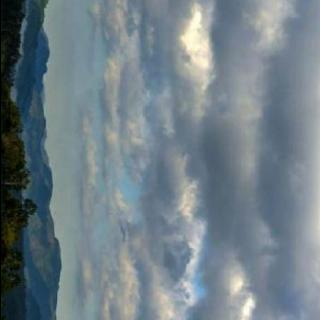Stratus: (49, 0, 320, 320)
